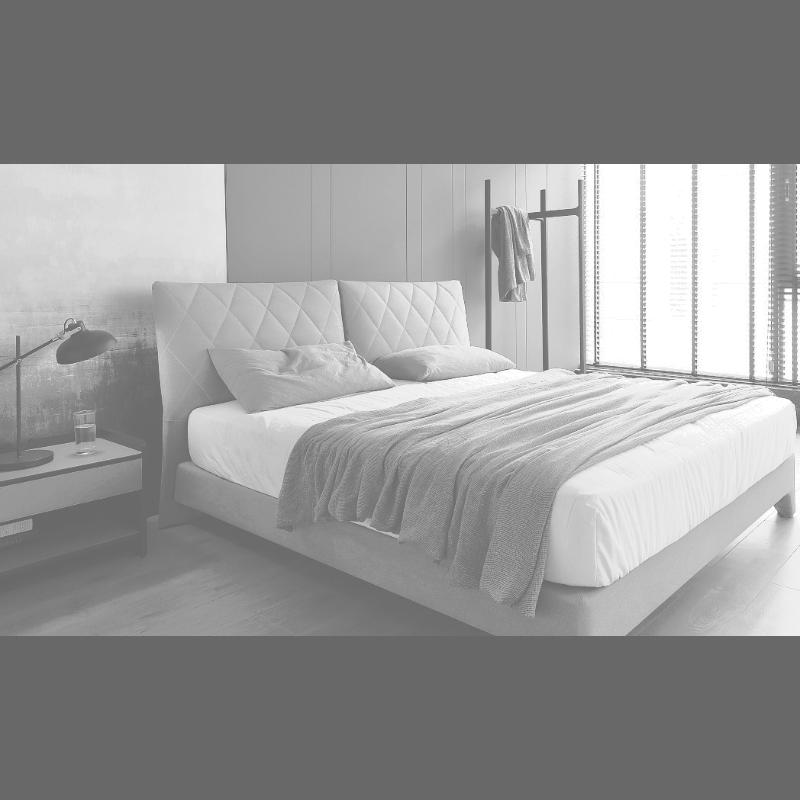pillow: (204, 340, 396, 412), (368, 344, 518, 386)
